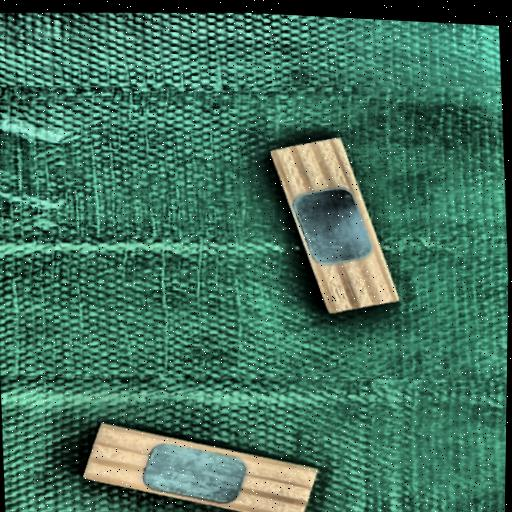objects: (271, 129, 399, 325), (84, 423, 318, 512)
